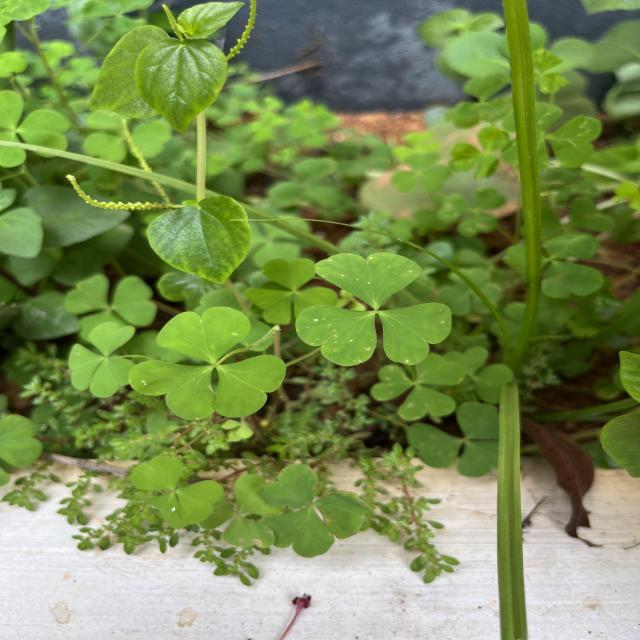Oxalis corniculata: (125, 305, 288, 421), (294, 252, 454, 368), (258, 462, 370, 558), (130, 455, 224, 530), (66, 321, 137, 398)
